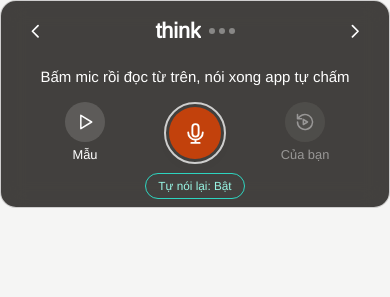
Test: SpeakCheck › stops by itself when the learner finishes speaking and queues the next try
Click the button named "Nói thử" at x=195, y=133, box [169, 107, 221, 159]
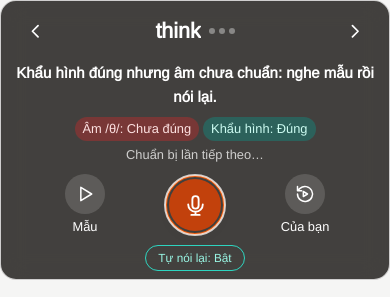
Expected: the picture named "0/3 lần đúng liên tiếp" is shown, [209, 28, 235, 34]
Expected: the message shows "Khẩu hình đúng nhưng âm chưa chuẩn", [16, 64, 374, 105]
Expected: the message shows "Chuẩn bị lần tiếp theo", [126, 147, 264, 162]
